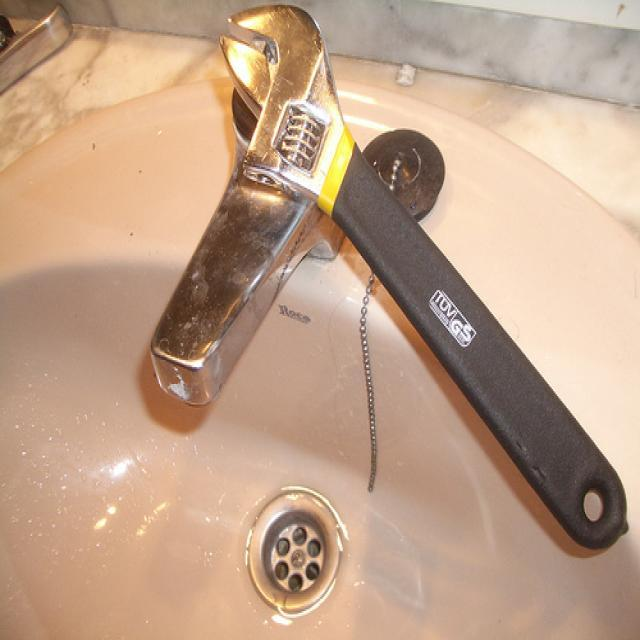wrench: (216, 1, 631, 553)
